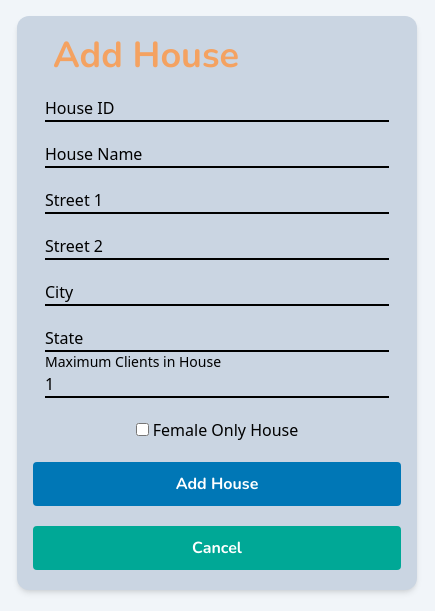
Test case: Add House › should display error messages when form is submitted with empty required fields
The width and height of the screenshot is (435, 611).
Note: Clear the default value for maxClients
Clear the number field labelled "Maximum Clients in House" at (217, 385), box [45,372,389,398]
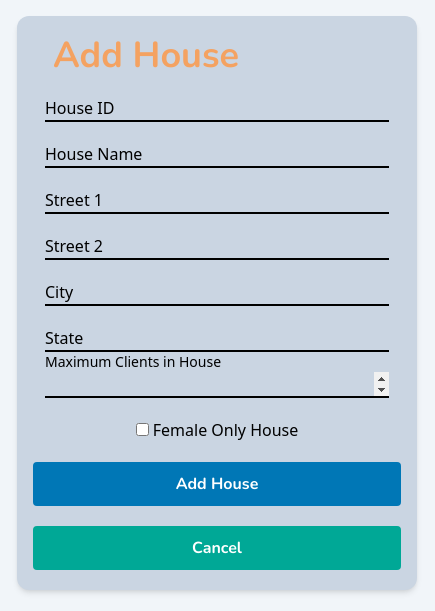
Note: Submit the form with empty fields
Click the button "Add House" at (217, 484), box [33,462,401,506]
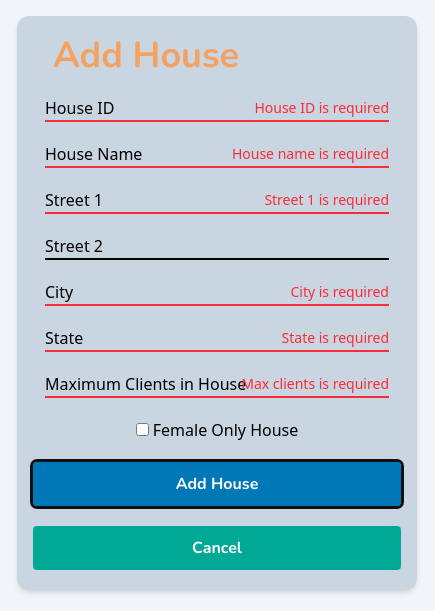
expect the text "House ID is required" is shown: met, box [254,98,389,118]
expect the text "House name is required" is shown: met, box [232,144,389,164]
expect the text "Street 1 is required" is shown: met, box [264,190,389,210]
